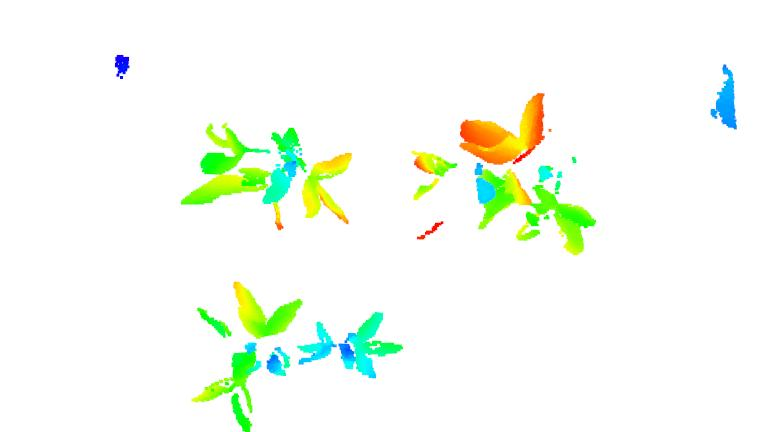mungbean: (408, 91, 593, 265), (172, 117, 351, 234), (188, 279, 303, 432), (293, 309, 405, 378)
